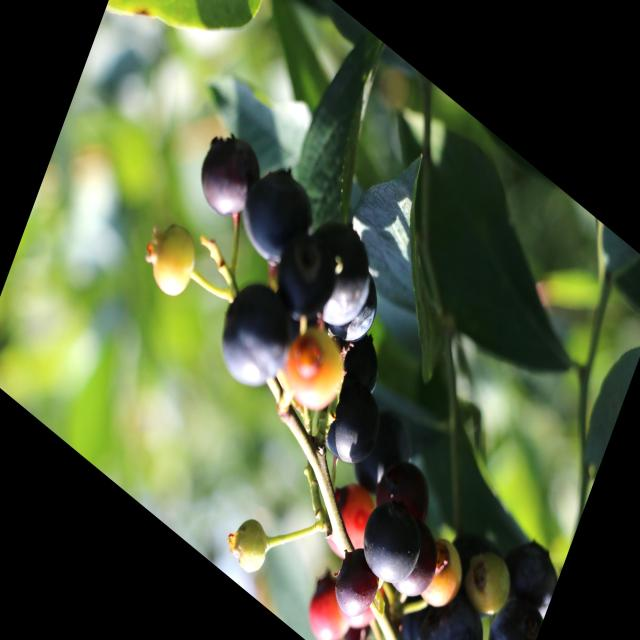blueberry: (214, 271, 301, 404), (296, 212, 382, 346), (236, 154, 320, 280), (313, 371, 389, 484), (192, 125, 265, 234), (490, 513, 566, 616), (355, 494, 426, 597), (374, 445, 439, 538), (406, 577, 488, 640), (329, 542, 384, 629), (354, 412, 405, 502), (476, 580, 546, 640), (397, 524, 445, 609)
blueberry-halfripe: (278, 318, 350, 424), (314, 470, 376, 565), (301, 569, 360, 640)
blueberry-unripe: (412, 529, 472, 624), (142, 214, 200, 304), (458, 540, 517, 624)
